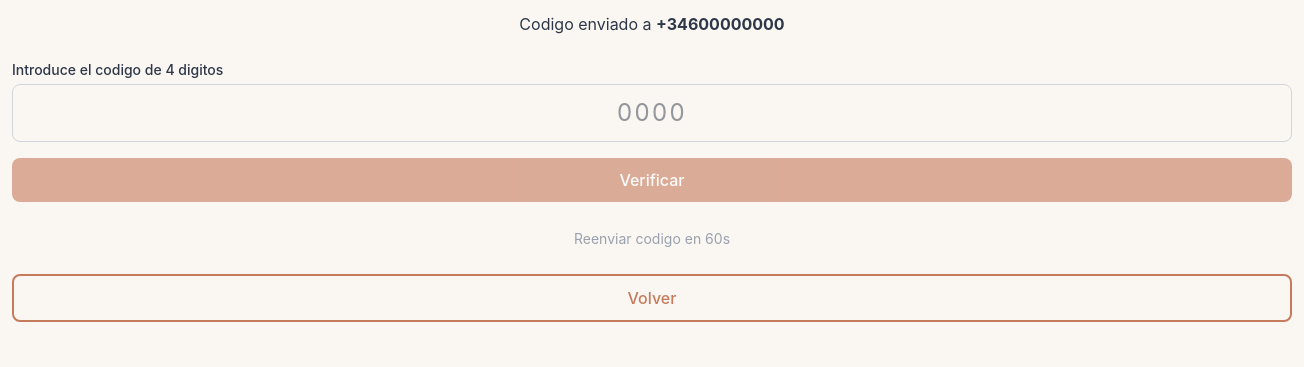
SmsVerificationStep (RF-002, RF-003) › shows error on wrong code and tracks retries
The width and height of the screenshot is (1304, 367).
Type "9999" into the field labelled "Introduce el codigo de 4 digitos".
click(652, 113); type("9999")  # box 12,84 -> 1292,142
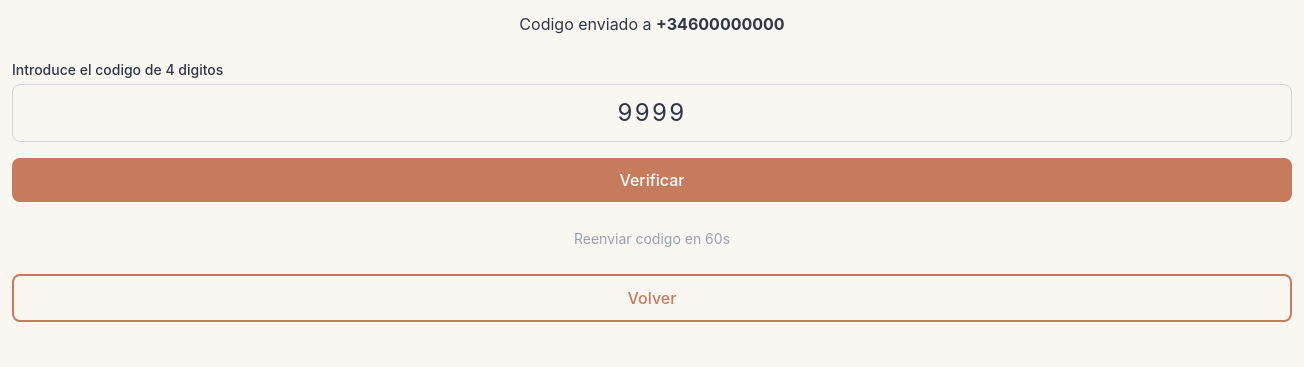
Submit the form, box 12,60 -> 1292,202
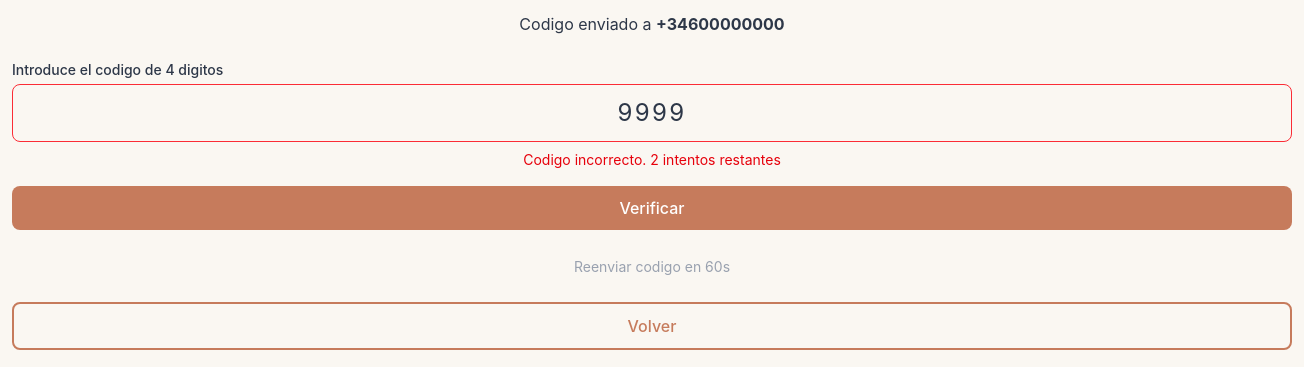
Expected: the text "Codigo incorrecto" is shown, 523,151 -> 781,168
Expected: the text "2" is shown, 523,151 -> 781,168
Replace the text in the field labelled "Introduce el codigo de 4 digitos" with "8888" at x=652, y=113, box 12,84 -> 1292,142
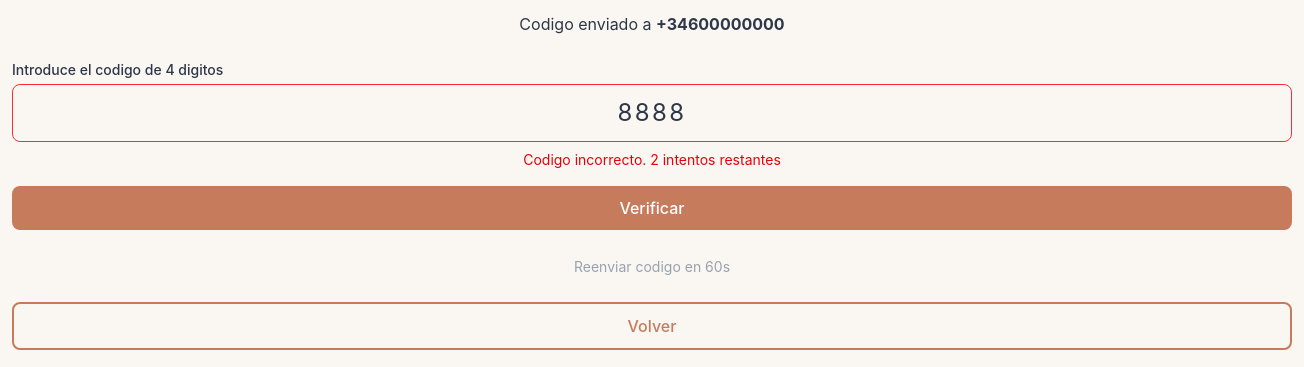
Submit the form, box 12,60 -> 1292,230
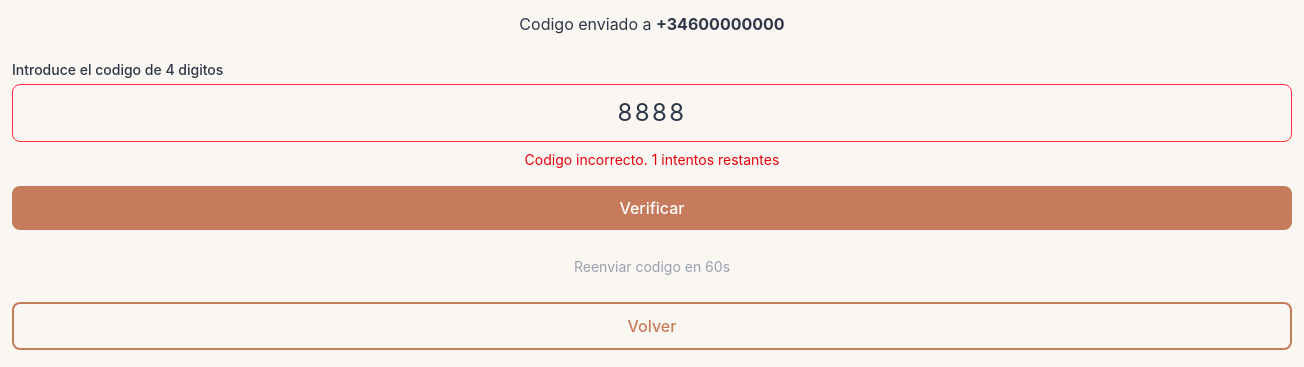
Expected: the text "1" is shown, 525,151 -> 779,168
Replace the text in the field labelled "Introduce el codigo de 4 digitos" with "7777" at x=652, y=113, box 12,84 -> 1292,142
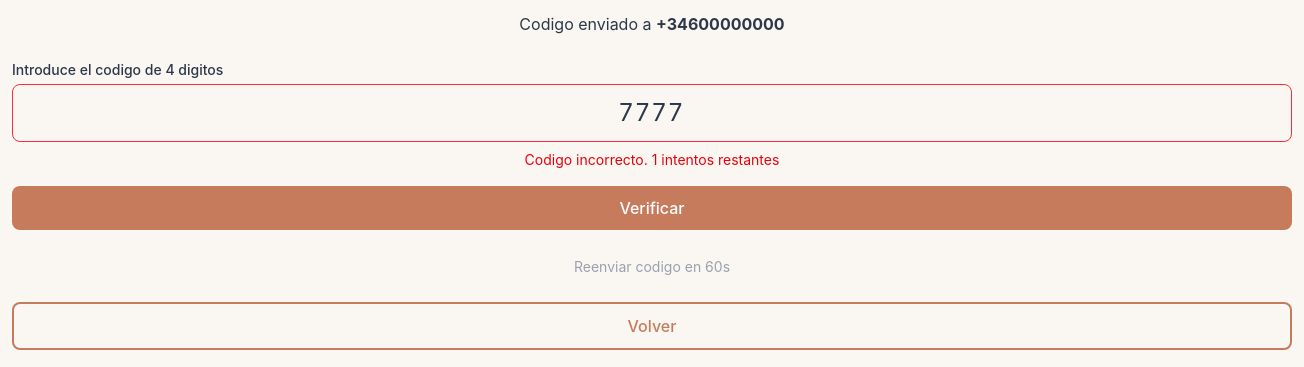
Submit the form, box 12,60 -> 1292,230
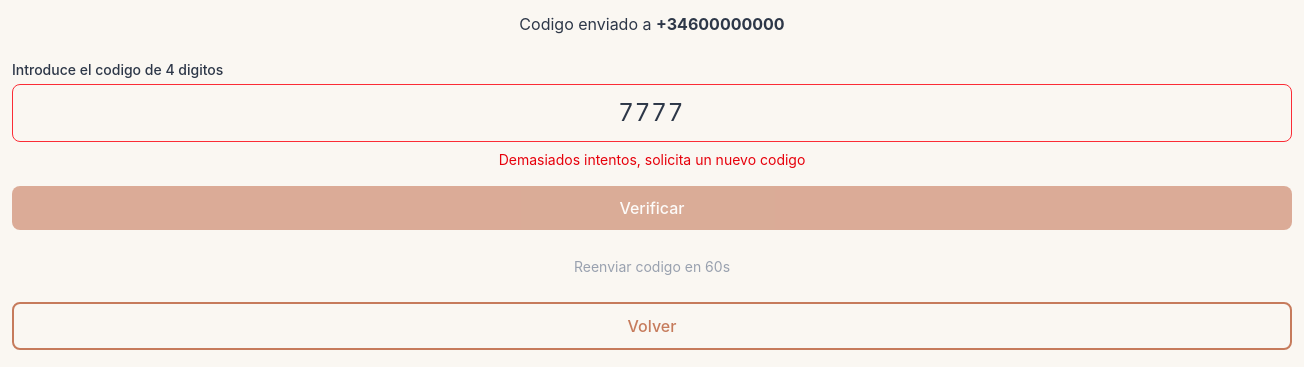
Expected: the text "0" is shown, 656,14 -> 785,34
Expected: the text "Demasiados intentos, solicita un nuevo codigo" is shown, 499,151 -> 805,168
